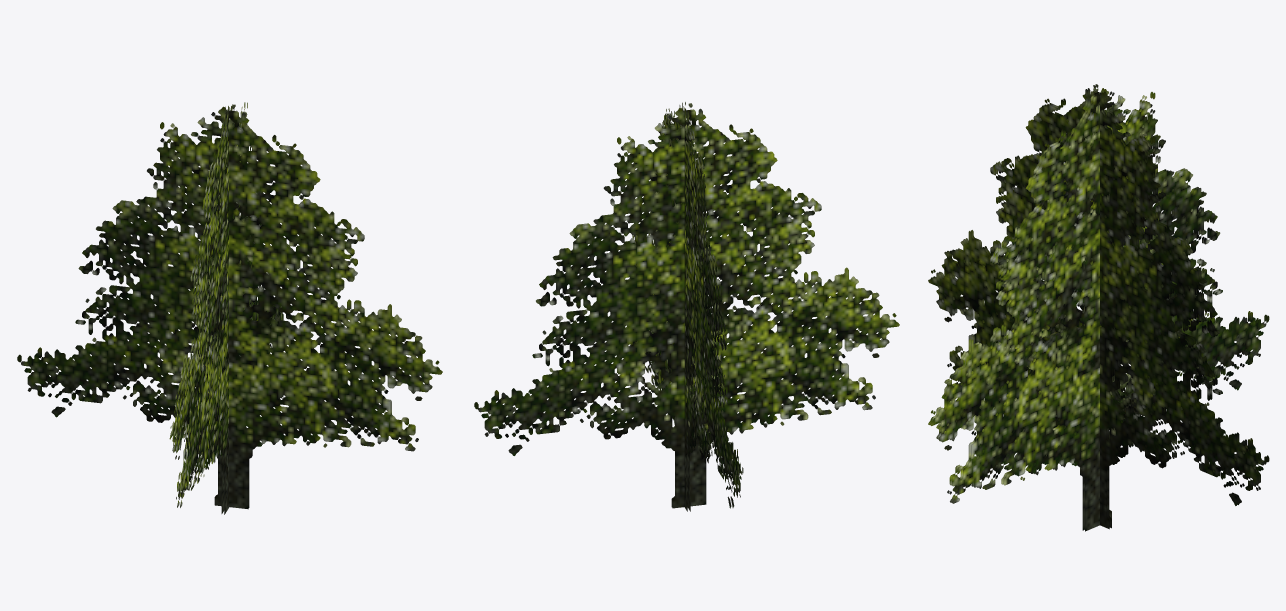
The model's file is tree100.fbx.
3 renders of one model, left to right at view 1: azimuth 30°, elevation 25°; view 2: azimuth 150°, elevation 25°; view 3: azimuth 270°, elevation 25°, orthographic. The views are drawn at different scales.
Visible parts, largest first — view 1: tree100; view 2: tree100; view 3: tree100.
Boxes of the visible parts, x1=… form: tree100: x1=17, y1=102, x2=442, y2=514; tree100: x1=474, y1=102, x2=899, y2=511; tree100: x1=928, y1=84, x2=1269, y2=531.
Size of the model in its own units: 278 by 400 by 278.
Materials: 1 (1 with a texture image).
